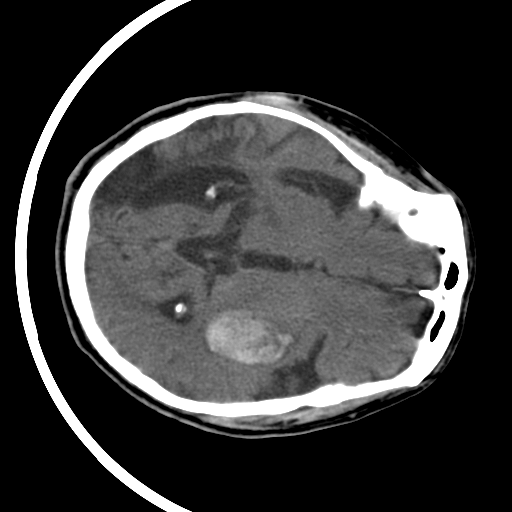a: (191, 295, 314, 378)
